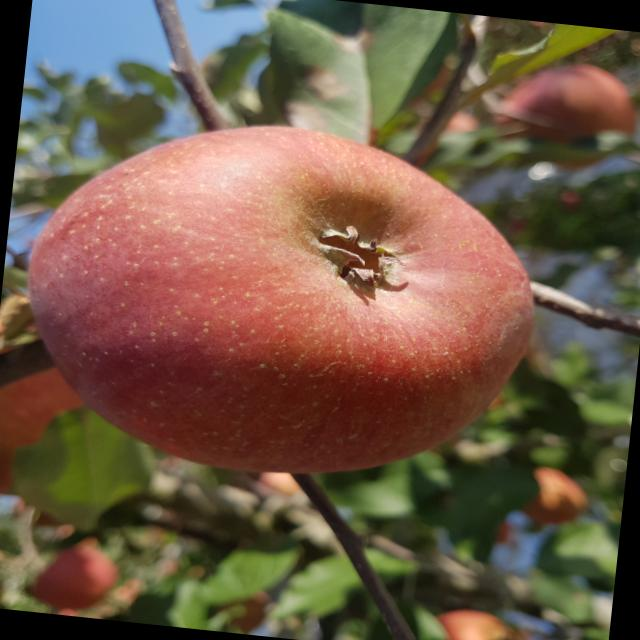fresh: (1, 98, 563, 508)
